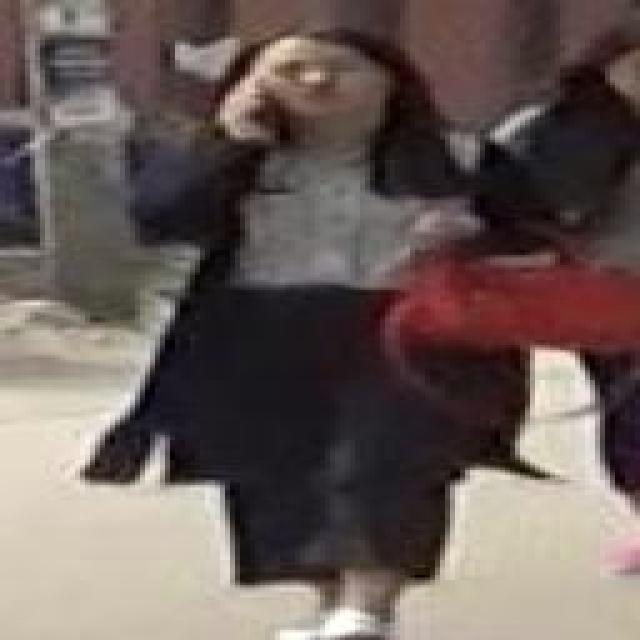adult: (156, 28, 549, 640)
